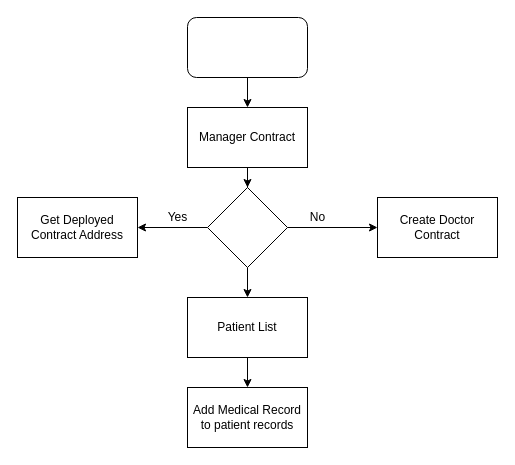
Image size: 515x465. Some labels were removed from this diagram. Each missing label, with the box of its shape:
Doctor SIde: (186, 16, 308, 78)
Logged In?: (206, 186, 288, 268)
